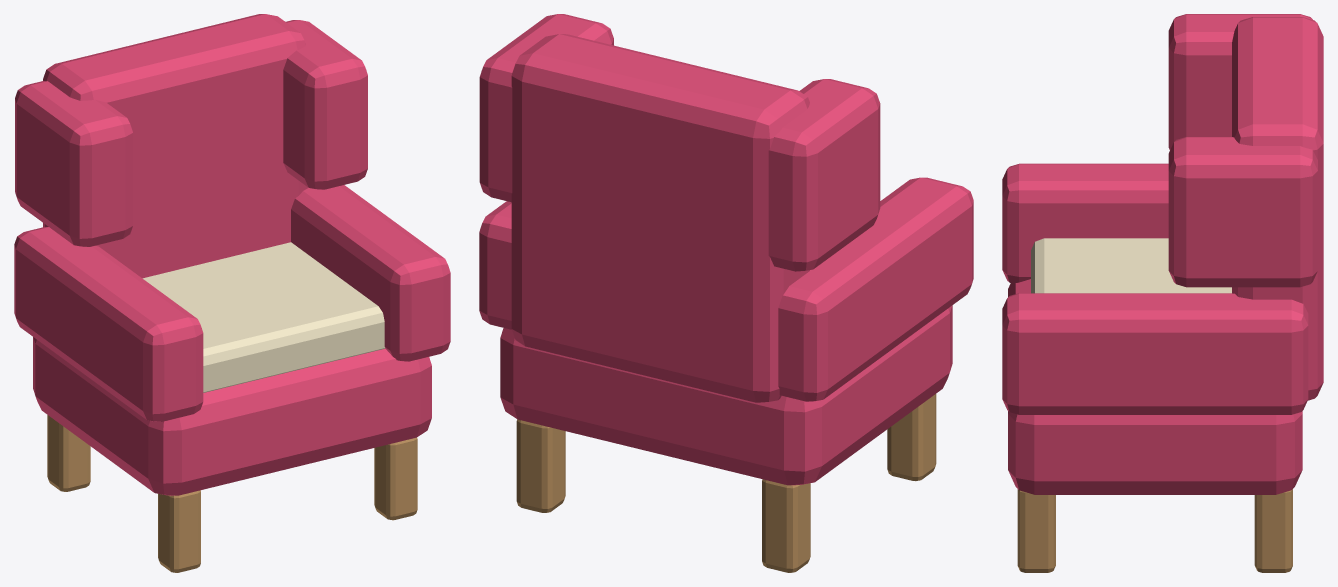
Rendered from S028_wing_armchair.glb.
3 views of the same model, side by side, from view 1: azimuth 30°, elevation 25°; view 2: azimuth 150°, elevation 25°; view 3: azimuth 270°, elevation 25° (orthographic). The views are drawn at different scales.
Parts seen in each view (by area): view 1: chair_back, chair_base, chair_arm, cream_cushion, upper_wing, chair_arm.001, upper_wing.001, armchair_foot, armchair_foot.002, armchair_foot.001; view 2: chair_back, chair_base, chair_arm, upper_wing, upper_wing.001, armchair_foot.001, armchair_foot.003, chair_arm.001, armchair_foot; view 3: chair_arm.001, chair_base, upper_wing.001, chair_back, chair_arm, upper_wing, cream_cushion, armchair_foot.002, armchair_foot.003.
Part boxes in pixels (bbox=[...]): chair_back: bbox=[43, 14, 307, 278]; chair_base: bbox=[33, 337, 431, 495]; chair_arm: bbox=[14, 227, 203, 421]; cream_cushion: bbox=[142, 242, 385, 392]; upper_wing: bbox=[15, 81, 132, 246]; chair_arm.001: bbox=[291, 185, 450, 361]; upper_wing.001: bbox=[283, 20, 367, 189]; armchair_foot: bbox=[158, 490, 200, 572]; armchair_foot.002: bbox=[374, 437, 417, 520]; armchair_foot.001: bbox=[47, 415, 90, 491]; chair_back: bbox=[511, 34, 809, 402]; chair_base: bbox=[500, 305, 952, 485]; chair_arm: bbox=[778, 177, 973, 401]; upper_wing: bbox=[768, 79, 880, 271]; upper_wing.001: bbox=[479, 14, 613, 202]; armchair_foot.001: bbox=[762, 479, 810, 572]; armchair_foot.003: bbox=[516, 419, 565, 512]; chair_arm.001: bbox=[479, 201, 511, 329]; armchair_foot: bbox=[887, 394, 936, 481]; chair_arm.001: bbox=[1002, 293, 1308, 414]; chair_base: bbox=[1008, 279, 1302, 494]; upper_wing.001: bbox=[1168, 137, 1317, 287]; chair_back: bbox=[1232, 17, 1323, 400]; chair_arm: bbox=[1002, 163, 1168, 284]; upper_wing: bbox=[1168, 14, 1312, 149]; cream_cushion: bbox=[1031, 238, 1231, 293]; armchair_foot.002: bbox=[1017, 489, 1055, 572]; armchair_foot.003: bbox=[1254, 489, 1292, 572].
Bounding box in the file's own units: 0.99 × 1.27 × 0.84.
